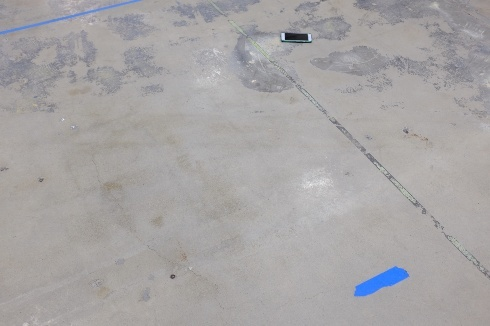phone: (270, 21, 319, 53)
